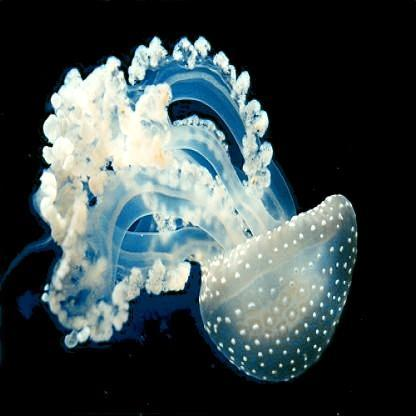LionMane: (33, 35, 358, 380)
